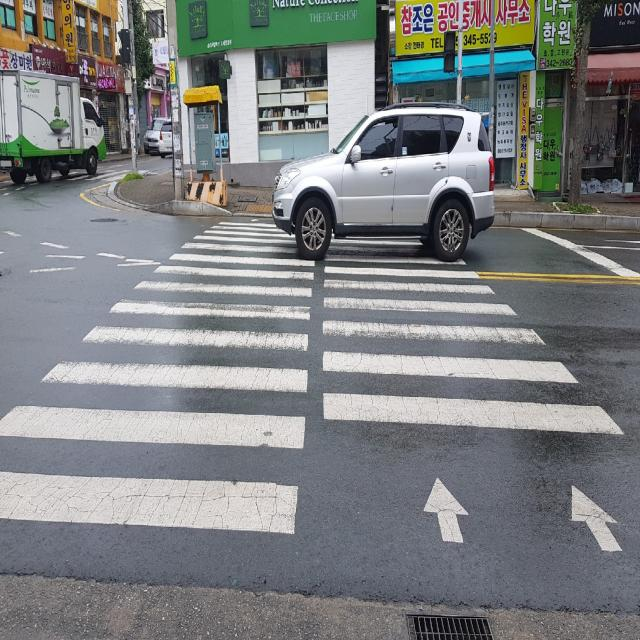횡단보도: (0, 218, 626, 555)
